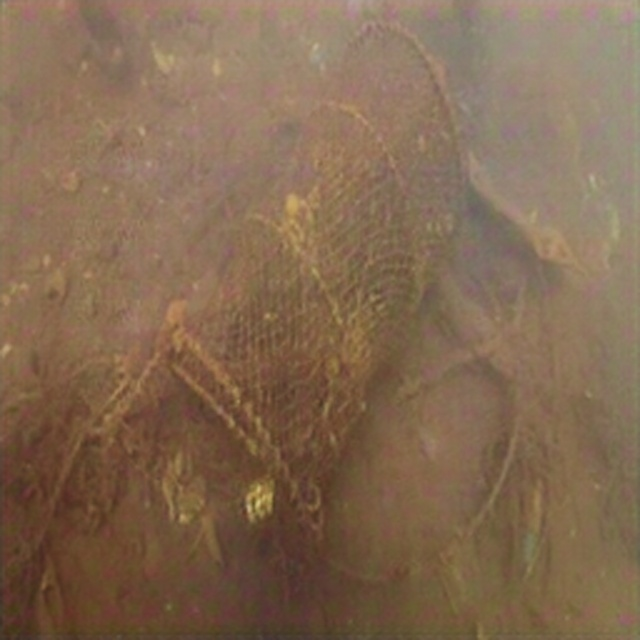mine: (166, 16, 464, 588)
